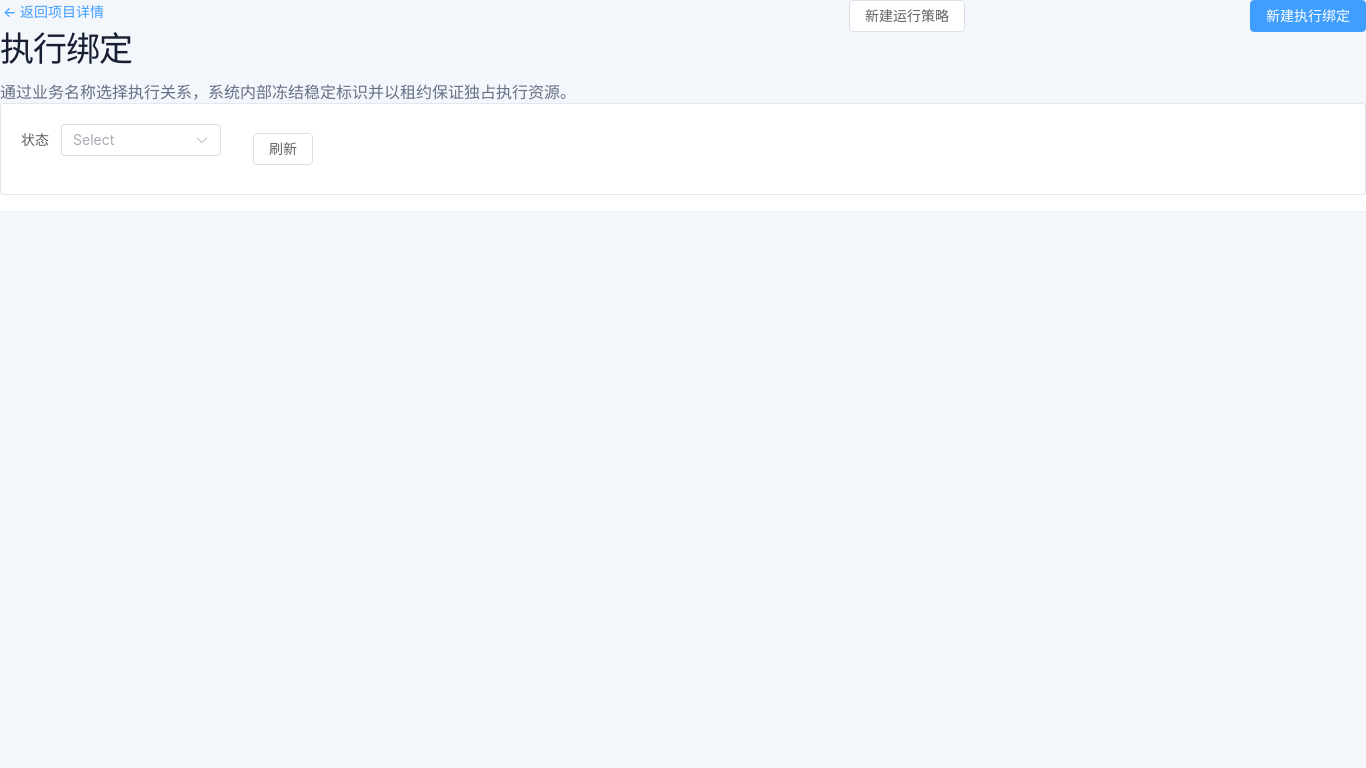
Test: Execution binding business UI › opens a business-selector form instead of editable relation ID fields
Click the button "新建执行绑定".
click(1308, 16)  # box [1250,0,1365,32]
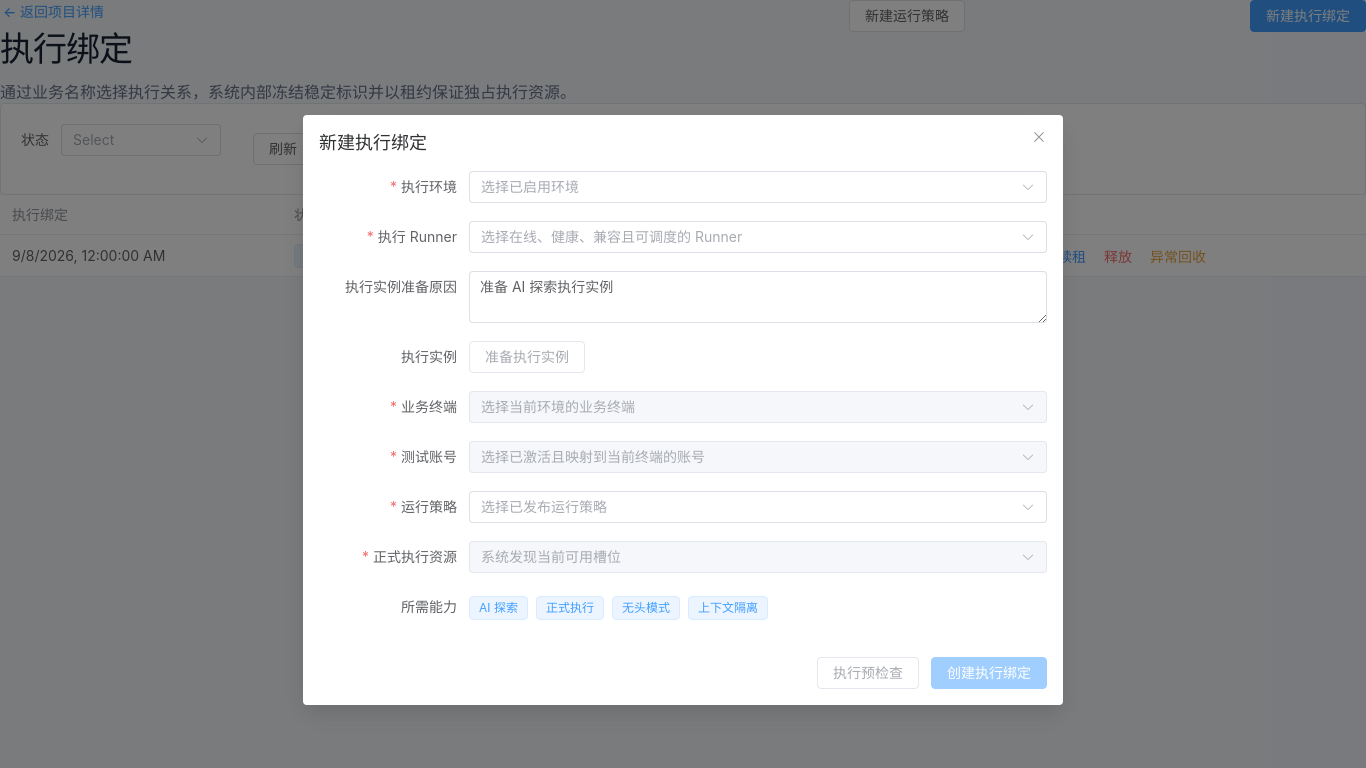
Expected: the dialog "新建执行绑定" is shown, [303,115,1063,705]
Expected: the text "执行环境" is shown, [401,178,457,195]
Expected: the text "执行 Runner" is shown, [378,228,457,245]
